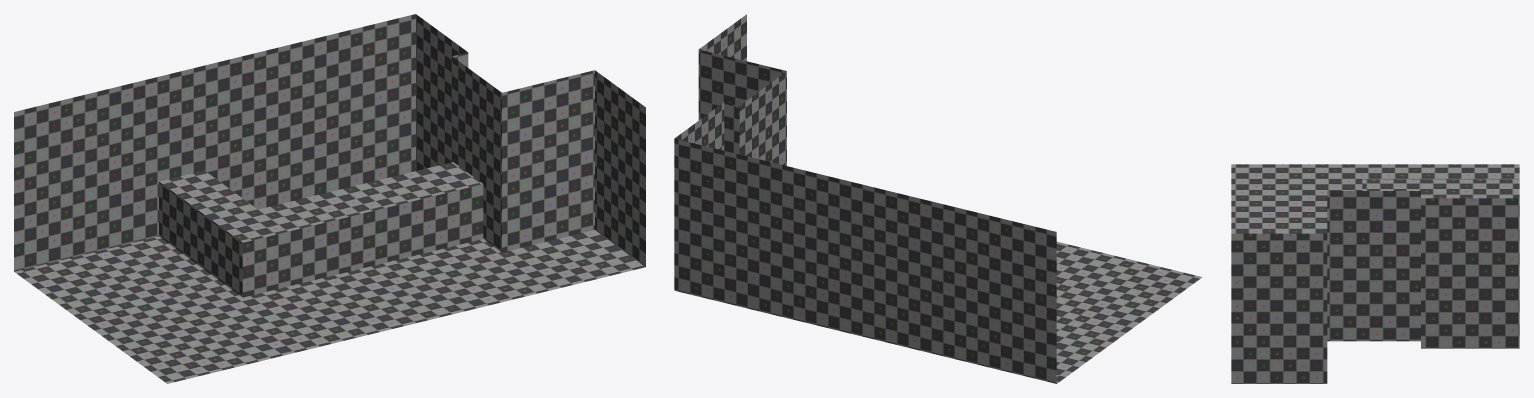
The model's file is 003-arch.glb.
3 renders of one model, left to right at view 1: azimuth 30°, elevation 25°; view 2: azimuth 150°, elevation 25°; view 3: azimuth 270°, elevation 25°, orthographic. The views are drawn at different scales.
Visible parts, largest first — view 1: arch.walls, arch.floor, arch.furn; view 2: arch.walls, arch.floor; view 3: arch.walls, arch.floor, arch.furn.
Boxes of the visible parts, x1,y1,x2,y2 form: arch.walls: [14, 14, 645, 271]; arch.floor: [14, 230, 645, 383]; arch.furn: [159, 162, 483, 297]; arch.walls: [674, 14, 1056, 383]; arch.floor: [1056, 241, 1202, 383]; arch.walls: [1231, 191, 1519, 383]; arch.floor: [1231, 164, 1519, 233]; arch.furn: [1362, 179, 1519, 198].
Bounding box in the file's own units: 3.23 × 1.03 × 1.79.
1 material, 1 textured.
